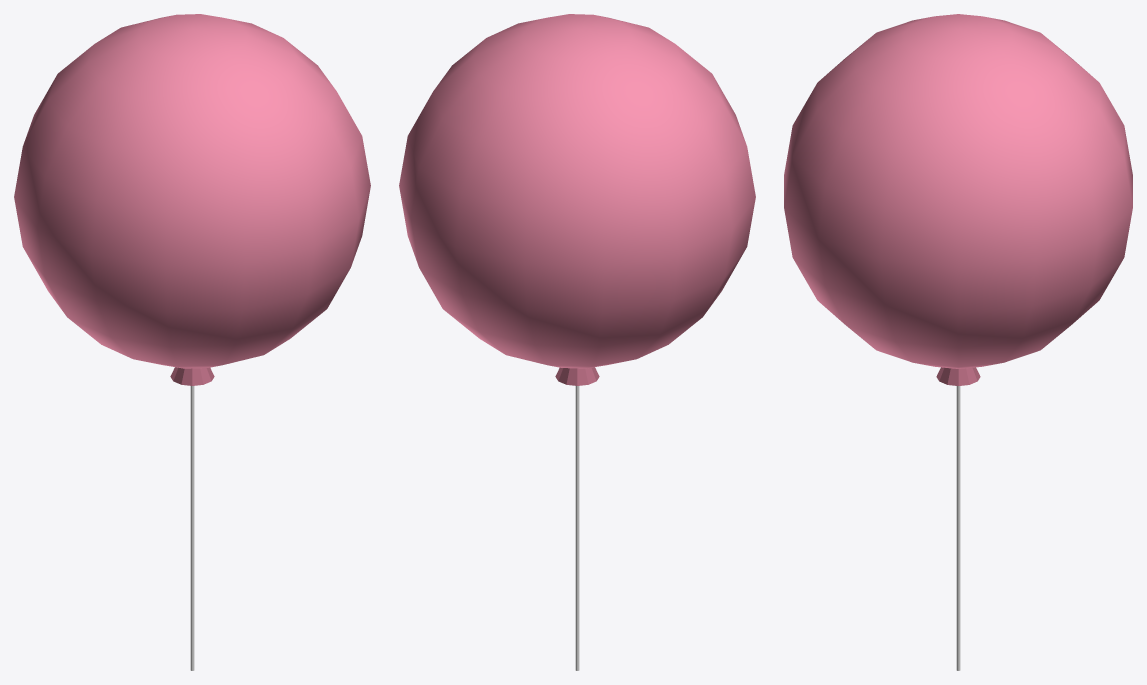
Rendered from balloon.glb.
3 views of the same model, side by side, from view 1: azimuth 30°, elevation 25°; view 2: azimuth 150°, elevation 25°; view 3: azimuth 270°, elevation 25° (orthographic).
Visible parts, largest first — view 1: balloon; view 2: balloon; view 3: balloon.
Boxes of the visible parts, left/top/right/bottom form: balloon: left=14, top=14, right=370, bottom=670; balloon: left=399, top=14, right=755, bottom=670; balloon: left=784, top=14, right=1132, bottom=670.
Bounding box in the file's own units: 0.21 × 0.415 × 0.2047.
